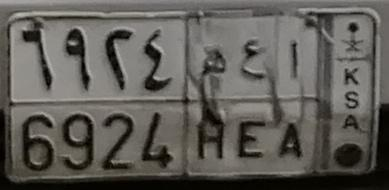2: (101, 26, 136, 170)
4: (140, 26, 175, 170)
6: (20, 28, 56, 172)
9: (61, 25, 96, 171)
A: (278, 38, 304, 161)
E: (238, 37, 268, 161)
H: (196, 46, 228, 161)
